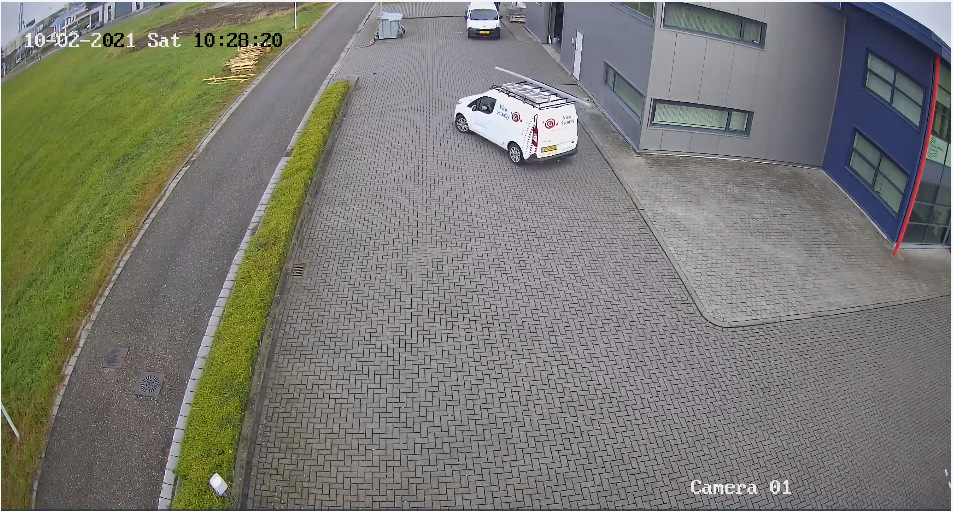werkbus: (441, 73, 593, 173), (462, 1, 506, 47)
